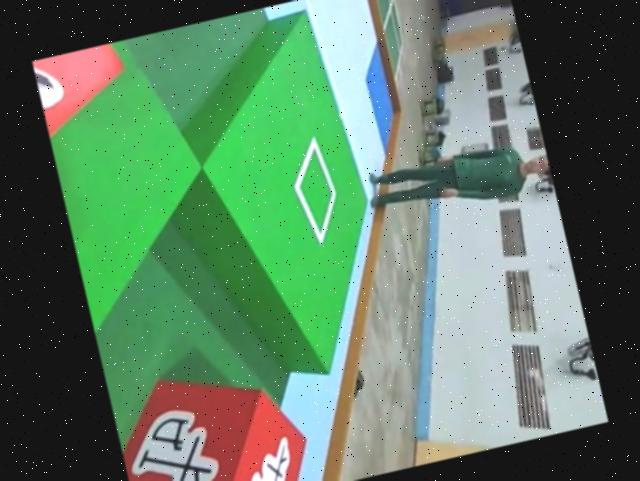R2 Real: (107, 347, 322, 481)
